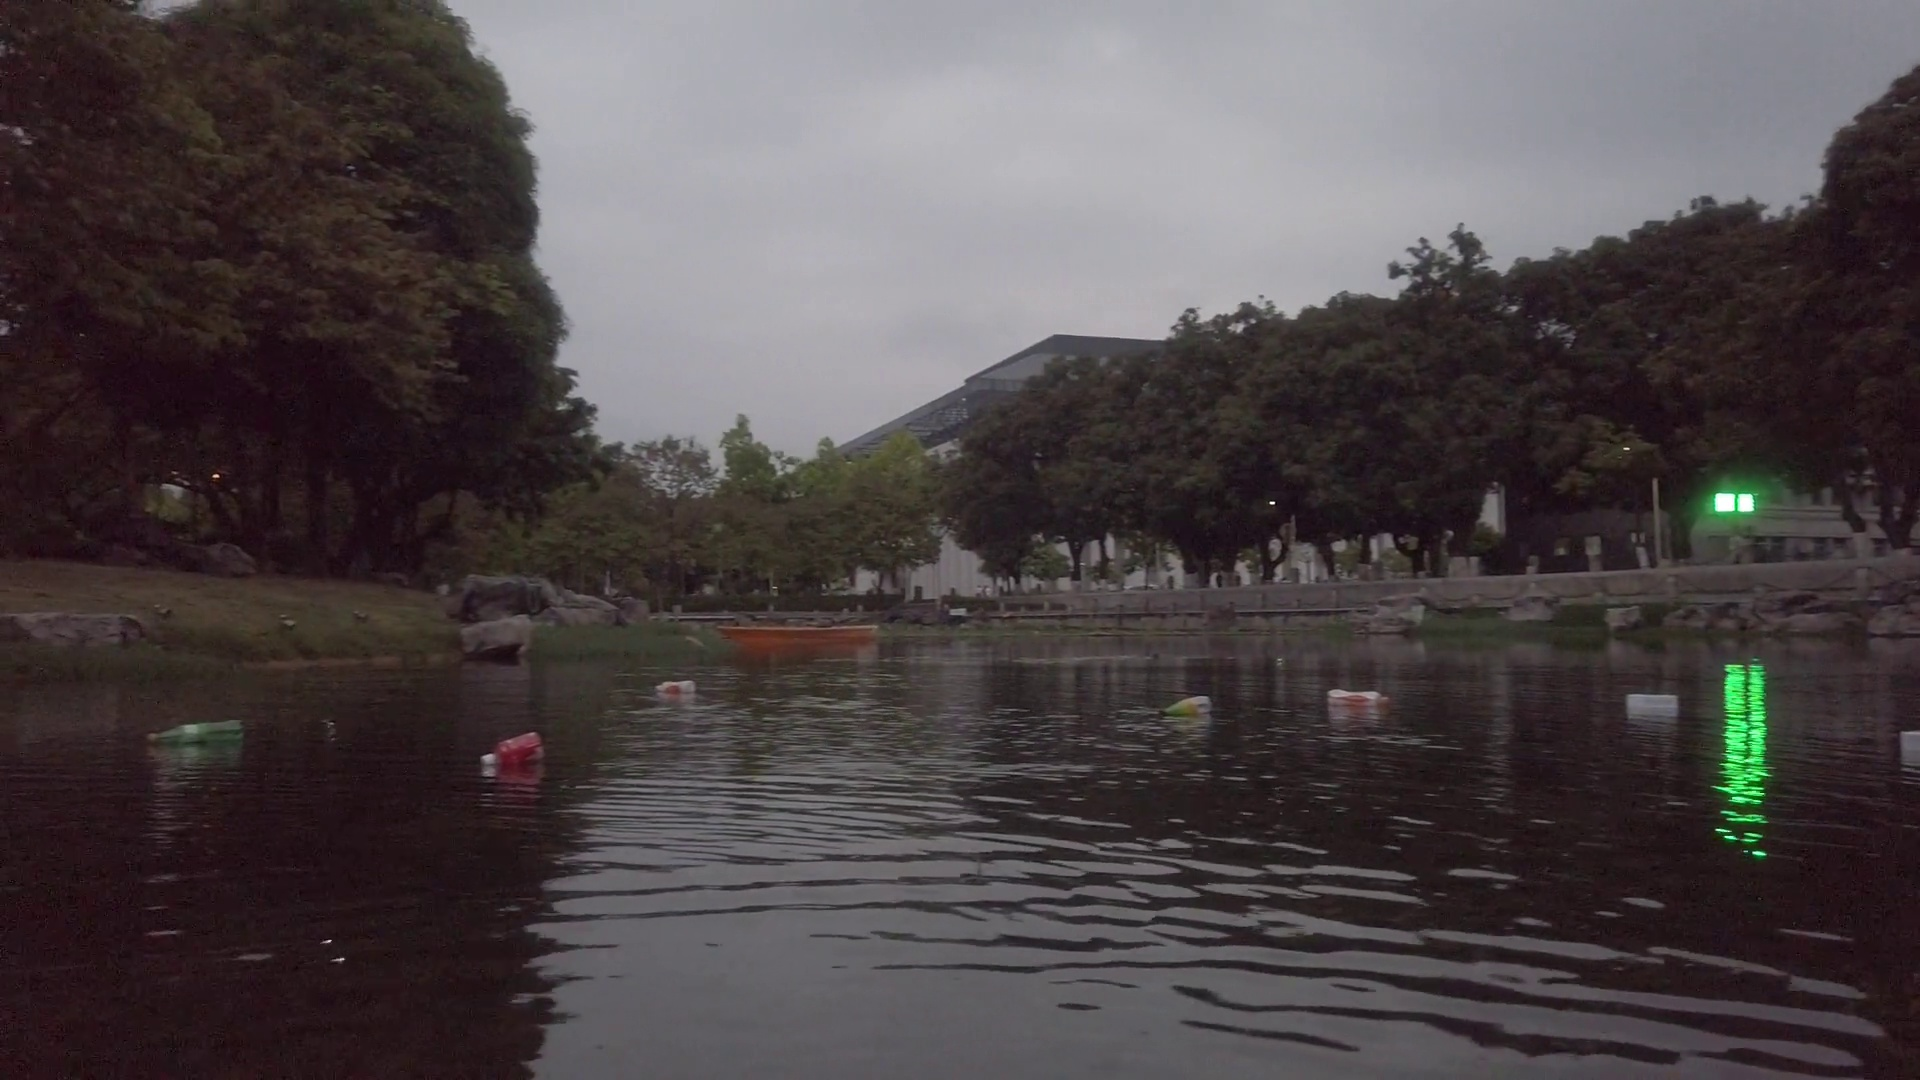bottle: (146, 720, 245, 744), (480, 732, 545, 767), (1327, 684, 1393, 708), (1159, 694, 1215, 716), (655, 680, 698, 696)
carton: (1629, 691, 1680, 711)
